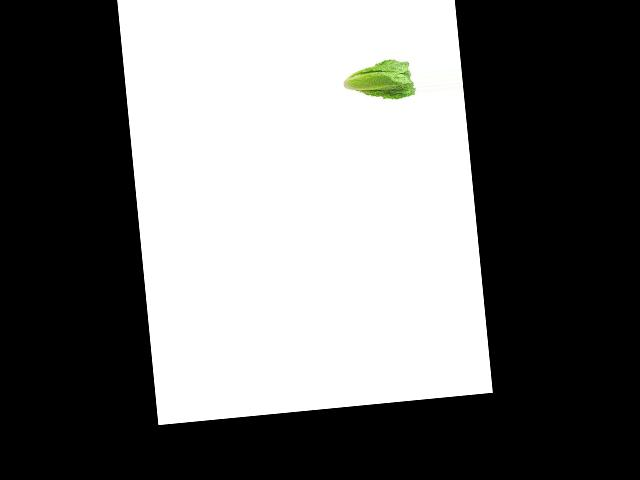lettuce: (340, 55, 417, 107)
